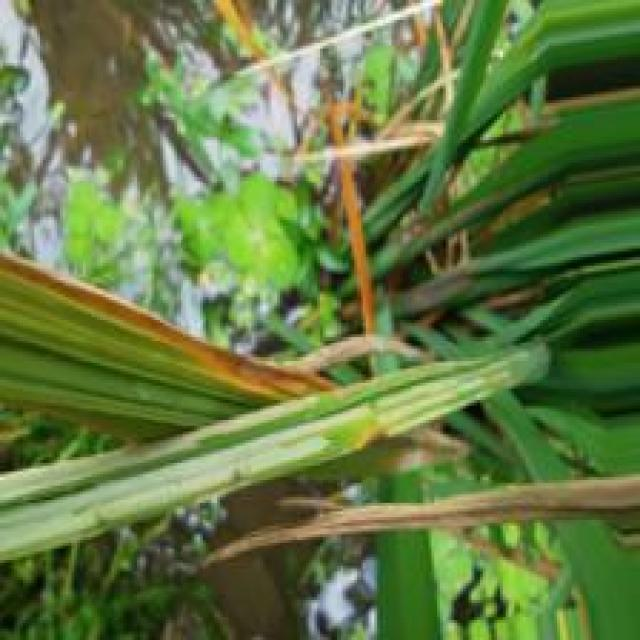Rice_Hispa: (0, 408, 396, 563), (0, 395, 315, 500), (385, 376, 466, 432)
